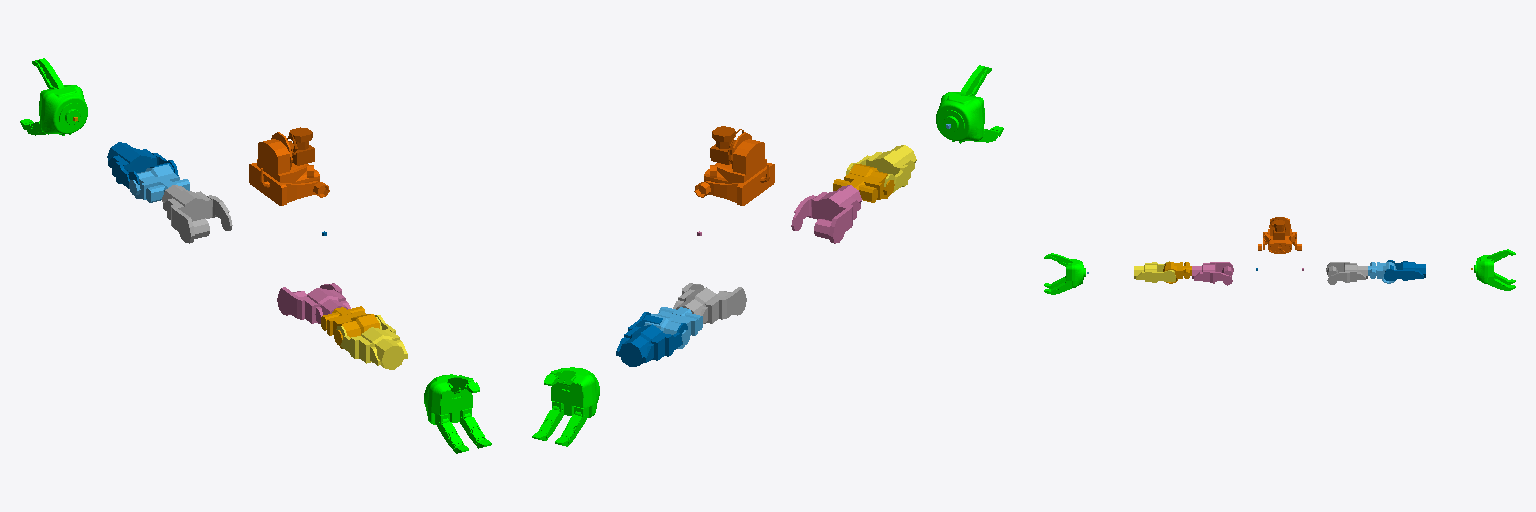
--- What the picture shows (computed from the rendered views, not written in the file) ---
3 views of the same robot in one strip: view 1: azimuth 30°, elevation 25°; view 2: azimuth 150°, elevation 25°; view 3: azimuth 270°, elevation 25° (orthographic).
Model atlas with 84 links and 83 joints (50 revolute, 1 continuous, 32 fixed), rooted at pelvis, posed every joint at zero.
Visible links, largest first — view 1: head, l_scap, r_larm, left_palm, r_scap, l_larm, right_palm, l_uarm, r_uarm, hokuyo_link; view 2: head, r_scap, l_larm, right_palm, l_scap, left_palm, r_larm, r_uarm, l_uarm, hokuyo_link; view 3: head, r_scap, l_scap, l_larm, r_larm.
Link boxes in pixels (x1=…): head: x1=249, y1=132, x2=329, y2=205; l_scap: x1=162, y1=185, x2=232, y2=243; r_larm: x1=336, y1=315, x2=407, y2=369; left_palm: x1=39, y1=85, x2=87, y2=135; r_scap: x1=277, y1=283, x2=350, y2=323; l_larm: x1=107, y1=142, x2=178, y2=188; right_palm: x1=424, y1=374, x2=472, y2=424; l_uarm: x1=129, y1=164, x2=189, y2=202; r_uarm: x1=321, y1=306, x2=379, y2=348; hokuyo_link: x1=287, y1=127, x2=314, y2=165; head: x1=694, y1=132, x2=774, y2=205; r_scap: x1=791, y1=185, x2=861, y2=243; l_larm: x1=616, y1=312, x2=687, y2=366; right_palm: x1=936, y1=92, x2=984, y2=143; l_scap: x1=673, y1=283, x2=746, y2=323; left_palm: x1=551, y1=367, x2=599, y2=417; r_larm: x1=846, y1=145, x2=916, y2=192; r_uarm: x1=833, y1=164, x2=894, y2=202; l_uarm: x1=644, y1=307, x2=702, y2=348; hokuyo_link: x1=710, y1=126, x2=743, y2=164; head: x1=1258, y1=217, x2=1301, y2=253; r_scap: x1=1192, y1=262, x2=1233, y2=285; l_scap: x1=1326, y1=262, x2=1367, y2=284; l_larm: x1=1384, y1=260, x2=1425, y2=280; r_larm: x1=1134, y1=261, x2=1175, y2=282.
Bounding box of the posed robot: 0.2455 × 2.49 × 0.4786 m (x, y, z).
34 mesh visuals loaded from 36 distinct referenced files (6 Collada DAE, 7 OBJ); not drawn: 23 (reference not matched to a file when rendering).

robot.urdf — atlas:
<?xml version="1.0" ?>
<!-- =================================================================================== -->
<!-- |    This document was autogenerated by xacro from xacro/atlas_LR_RR.urdf.xacro   | -->
<!-- |    EDITING THIS FILE BY HAND IS NOT RECOMMENDED                                 | -->
<!-- =================================================================================== -->
<robot name="atlas" xmlns:xacro="http://www.ros.org/wiki/xacro">
  <link name="l_clav">
    <inertial>
      <mass value="3.45"/>
      <origin rpy="0 -0 0" xyz="0 0.048 0.084"/>
      <inertia ixx="0.011" ixy="0" ixz="0" iyy="0.009" iyz="-0.004" izz="0.004"/>
    </inertial>
    <visual>
      <origin rpy="0 -0 0" xyz="0 0 0"/>
      <geometry>
        <mesh filename="package://atlas_v3/meshes/l_clav.dae" scale="1 1 1"/>
      </geometry>
    </visual>
    <collision>
      <origin rpy="0 -0 0" xyz="0 0 0"/>
      <geometry>
        <mesh filename="package://atlas_v3/meshes/l_clav.dae" scale="1 1 1"/>
      </geometry>
    </collision>
  </link>
  <link name="l_farm">
    <inertial>
      <mass value="3.388"/>
      <origin rpy="0 -0 0" xyz="0 -0.065 0"/>
      <inertia ixx="0.00656" ixy="0" ixz="0" iyy="0.00358" iyz="0" izz="0.00656"/>
    </inertial>
    <visual>
      <origin rpy="0 -0 0" xyz="0 0 0"/>
      <geometry>
        <mesh filename="package://atlas_v3/meshes/l_farm.dae" scale="1 1 1"/>
      </geometry>
    </visual>
    <collision>
      <origin rpy="0 -0 0" xyz="0 0 0"/>
      <geometry>
        <mesh filename="package://atlas_v3/meshes/l_farm.dae" scale="1 1 1"/>
      </geometry>
    </collision>
  </link>
  <link name="l_foot">
    <inertial>
      <mass value="2.05"/>
      <origin rpy="0 -0 0" xyz="0.027 0 -0.067"/>
      <inertia ixx="0.002" ixy="0" ixz="0" iyy="0.007" iyz="0" izz="0.008"/>
    </inertial>
    <visual>
      <origin rpy="0 -0 0" xyz="0 0 0"/>
      <geometry>
        <mesh filename="package://atlas_v3/meshes/l_foot.dae" scale="1 1 1"/>
      </geometry>
    </visual>
    <collision>
      <origin rpy="0 -0 0" xyz="0 0 0"/>
      <geometry>
        <mesh filename="package://atlas_v3/meshes/l_foot.dae" scale="1 1 1"/>
      </geometry>
    </collision>
  </link>
  <link name="l_hand">
    <inertial>
      <mass value="2.509"/>
      <origin rpy="0 -0 0" xyz="0 0 0"/>
      <inertia ixx="0.00265" ixy="0" ixz="0" iyy="0.00446" iyz="0" izz="0.00446"/>
    </inertial>
    <visual>
      <origin rpy="0 -0 0" xyz="0 0 0"/>
      <geometry>
        <mesh filename="package://atlas_v3/meshes/l_hand.dae" scale="1 1 1"/>
      </geometry>
    </visual>
    <collision>
      <origin rpy="0 -0 0" xyz="0 0 0"/>
      <geometry>
        <mesh filename="package://atlas_v3/meshes/l_hand.dae" scale="1 1 1"/>
      </geometry>
    </collision>
  </link>
  <link name="l_larm">
    <inertial>
      <mass value="2.509"/>
      <origin rpy="0 -0 0" xyz="0 0 0"/>
      <inertia ixx="0.00265" ixy="0" ixz="0" iyy="0.00446" iyz="0" izz="0.00446"/>
    </inertial>
    <visual>
      <origin rpy="0 -0 0" xyz="0 0 0"/>
      <geometry>
        <mesh filename="package://atlas_v3/meshes/l_elbow_rx.dae" scale="1 1 1"/>
      </geometry>
    </visual>
    <collision>
      <origin rpy="0 -0 0" xyz="0 0 0"/>
      <geometry>
        <mesh filename="package://atlas_v3/meshes/l_elbow_rx.dae" scale="1 1 1"/>
      </geometry>
    </collision>
  </link>
  <link name="l_lglut">
    <inertial>
      <mass value="0.866"/>
      <origin rpy="0 -0 0" xyz="0.0133341 0.0170484 -0.0312052"/>
      <inertia ixx="0.000691326" ixy="-2.24344e-05" ixz="2.50508e-06" iyy="0.00126856" iyz="0.000137862" izz="0.00106487"/>
    </inertial>
    <visual>
      <origin rpy="0 -0 0" xyz="0 0 0"/>
      <geometry>
        <mesh filename="package://atlas_v3/meshes/l_lglut.dae" scale="1 1 1"/>
      </geometry>
    </visual>
    <collision>
      <origin rpy="0 -0 0" xyz="0 0 0"/>
      <geometry>
        <mesh filename="package://atlas_v3/meshes/l_lglut.dae" scale="1 1 1"/>
      </geometry>
    </collision>
  </link>
  <link name="l_lleg">
    <inertial>
      <mass value="5.479"/>
      <origin rpy="0 -0 0" xyz="0.001 0 -0.187"/>
      <inertia ixx="0.077" ixy="0" ixz="-0.003" iyy="0.076" iyz="0" izz="0.01"/>
    </inertial>
    <visual>
      <origin rpy="0 -0 0" xyz="0 0 0"/>
      <geometry>
        <mesh filename="package://atlas_v3/meshes/l_lleg.dae" scale="1 1 1"/>
      </geometry>
    </visual>
    <collision>
      <origin rpy="0 -0 0" xyz="0 0 0"/>
      <geometry>
        <mesh filename="package://atlas_v3/meshes/l_lleg.dae" scale="1 1 1"/>
      </geometry>
    </collision>
  </link>
  <link name="l_scap">
    <inertial>
      <mass value="3.012"/>
      <origin rpy="0 -0 0" xyz="0 0 0"/>
      <inertia ixx="0.00319" ixy="0" ixz="0" iyy="0.00583" iyz="0" izz="0.00583"/>
    </inertial>
    <visual>
      <origin rpy="0 -0 0" xyz="0 0 0"/>
      <geometry>
        <mesh filename="package://atlas_v3/meshes/l_sh_rx.dae" scale="1 1 1"/>
      </geometry>
    </visual>
    <collision>
      <origin rpy="0 -0 0" xyz="0 0 0"/>
      <geometry>
        <mesh filename="package://atlas_v3/meshes/l_sh_rx.dae" scale="1 1 1"/>
      </geometry>
    </collision>
  </link>
  <link name="l_talus">
    <inertial>
      <mass value="0.125"/>
      <origin rpy="0 -0 0" xyz="0 0 0"/>
      <inertia ixx="1.01674e-05" ixy="0" ixz="0" iyy="8.42775e-06" iyz="0" izz="1.30101e-05"/>
    </inertial>
    <visual>
      <origin rpy="0 -0 0" xyz="0 0 0"/>
      <geometry>
        <mesh filename="package://atlas_v3/meshes/l_talus.dae" scale="1 1 1"/>
      </geometry>
    </visual>
    <collision>
      <origin rpy="0 -0 0" xyz="0 0 0"/>
      <geometry>
        <mesh filename="package://atlas_v3/meshes/l_talus.dae" scale="1 1 1"/>
      </geometry>
    </collision>
  </link>
  <link name="l_uarm">
    <inertial>
      <mass value="3.388"/>
      <origin rpy="0 -0 0" xyz="0 -0.065 0"/>
      <inertia ixx="0.00656" ixy="0" ixz="0" iyy="0.00358" iyz="0" izz="0.00656"/>
    </inertial>
    <visual>
      <origin rpy="0 -0 0" xyz="0 0 0"/>
      <geometry>
        <mesh filename="package://atlas_v3/meshes/l_elbow_ry.dae" scale="1 1 1"/>
      </geometry>
    </visual>
    <collision>
      <origin rpy="0 -0 0" xyz="0 0 0"/>
      <geometry>
        <mesh filename="package://atlas_v3/meshes/l_elbow_ry.dae" scale="1 1 1"/>
      </geometry>
    </collision>
  </link>
  <link name="l_uglut">
    <inertial>
      <mass value="0.648"/>
      <origin rpy="0 -0 0" xyz="0.00529262 -0.00344732 0.00313046"/>
      <inertia ixx="0.00074276" ixy="-3.79607e-08" ixz="-2.79549e-05" iyy="0.000688179" iyz="-3.2735e-08" izz="0.00041242"/>
    </inertial>
    <visual>
      <origin rpy="0 -0 0" xyz="0 0 0"/>
      <geometry>
        <mesh filename="package://atlas_v3/meshes/l_uglut.dae" scale="1 1 1"/>
      </geometry>
    </visual>
    <collision>
      <origin rpy="0 -0 0" xyz="0 0 0"/>
      <geometry>
        <mesh filename="package://atlas_v3/meshes/l_uglut.dae" scale="1 1 1"/>
      </geometry>
    </collision>
  </link>
  <link name="l_uleg">
    <inertial>
      <mass value="9.209"/>
      <origin rpy="0 -0 0" xyz="0 0 -0.21"/>
      <inertia ixx="0.09" ixy="0" ixz="0" iyy="0.09" iyz="0" izz="0.02"/>
    </inertial>
    <visual>
      <origin rpy="0 -0 0" xyz="0 0 0"/>
      <geometry>
        <mesh filename="package://atlas_v3/meshes/l_uleg.dae" scale="1 1 1"/>
      </geometry>
    </visual>
    <collision>
      <origin rpy="0 -0 0" xyz="0 0 0"/>
      <geometry>
        <mesh filename="package://atlas_v3/meshes/l_uleg.dae" scale="1 1 1"/>
      </geometry>
    </collision>
  </link>
  <link name="ltorso">
    <inertial>
      <mass value="2.409"/>
      <origin rpy="0 -0 0" xyz="-0.0112984 -3.15366e-06 0.0746835"/>
      <inertia ixx="0.0039092" ixy="-5.04491e-08" ixz="-0.000342157" iyy="0.00341694" iyz="4.87119e-07" izz="0.00174492"/>
    </inertial>
    <visual>
      <origin rpy="0 -0 0" xyz="0 0 0"/>
      <geometry>
        <mesh filename="package://atlas_v3/meshes/ltorso.dae" scale="1 1 1"/>
      </geometry>
    </visual>
    <collision>
      <origin rpy="0 -0 0" xyz="0 0 0"/>
      <geometry>
        <mesh filename="package://atlas_v3/meshes/ltorso.dae" scale="1 1 1"/>
      </geometry>
    </collision>
  </link>
  <link name="mtorso">
    <inertial>
      <mass value="0.69"/>
      <origin rpy="0 -0 0" xyz="-0.00816266 -0.0131245 0.0305974"/>
      <inertia ixx="0.000454181" ixy="-6.10764e-05" ixz="3.94009e-05" iyy="0.000483282" iyz="5.27463e-05" izz="0.000444215"/>
    </inertial>
    <visual>
      <origin rpy="0 -0 0" xyz="0 0 0"/>
      <geometry>
        <mesh filename="package://atlas_v3/meshes/mtorso.dae" scale="1 1 1"/>
      </geometry>
    </visual>
    <collision>
      <origin rpy="0 -0 0" xyz="0 0 0"/>
      <geometry>
        <mesh filename="package://atlas_v3/meshes/mtorso.dae" scale="1 1 1"/>
      </geometry>
    </collision>
  </link>
  <link name="pelvis">
    <inertial>
      <mass value="17.882"/>
      <origin rpy="0 -0 0" xyz="0.0111 0 0.0271"/>
      <inertia ixx="0.1244" ixy="0.0008" ixz="-0.0007" iyy="0.0958" iyz="-0.0005" izz="0.1167"/>
    </inertial>
    <visual>
      <origin rpy="0 -0 0" xyz="0 0 0"/>
      <geometry>
        <mesh filename="package://atlas_v3/meshes/pelvis.dae" scale="1 1 1"/>
      </geometry>
    </visual>
    <collision>
      <origin rpy="0 -0 0" xyz="0 0 0"/>
      <geometry>
        <mesh filename="package://atlas_v3/meshes/pelvis.dae" scale="1 1 1"/>
      </geometry>
    </collision>
  </link>
  <link name="r_clav">
    <inertial>
      <mass value="3.45"/>
      <origin rpy="0 -0 0" xyz="0 -0.048 0.084"/>
      <inertia ixx="0.011" ixy="0" ixz="0" iyy="0.009" iyz="0.004" izz="0.004"/>
    </inertial>
    <visual>
      <origin rpy="0 -0 0" xyz="0 0 0"/>
      <geometry>
        <mesh filename="package://atlas_v3/meshes/r_clav.dae" scale="1 1 1"/>
      </geometry>
    </visual>
    <collision>
      <origin rpy="0 -0 0" xyz="0 0 0"/>
      <geometry>
        <mesh filename="package://atlas_v3/meshes/r_clav.dae" scale="1 1 1"/>
      </geometry>
    </collision>
  </link>
  <link name="r_farm">
    <inertial>
      <mass value="3.388"/>
      <origin rpy="0 -0 0" xyz="0 0.065 0"/>
      <inertia ixx="0.00656" ixy="0" ixz="0" iyy="0.00358" iyz="0" izz="0.00656"/>
    </inertial>
    <visual>
      <origin rpy="0 -0 0" xyz="0 0 0"/>
      <geometry>
        <mesh filename="package://atlas_v3/meshes/r_farm.dae" scale="1 1 1"/>
      </geometry>
    </visual>
    <collision>
      <origin rpy="0 -0 0" xyz="0 0 0"/>
      <geometry>
        <mesh filename="package://atlas_v3/meshes/r_farm.dae" scale="1 1 1"/>
      </geometry>
    </collision>
  </link>
  <link name="r_foot">
    <inertial>
      <mass value="2.05"/>
      <origin rpy="0 -0 0" xyz="0.027 0 -0.067"/>
      <inertia ixx="0.002" ixy="0" ixz="0" iyy="0.007" iyz="0" izz="0.008"/>
    </inertial>
    <visual>
      <origin rpy="0 -0 0" xyz="0 0 0"/>
      <geometry>
        <mesh filename="package://atlas_v3/meshes/r_foot.dae" scale="1 1 1"/>
      </geometry>
    </visual>
    <collision>
      <origin rpy="0 -0 0" xyz="0 0 0"/>
      <geometry>
        <mesh filename="package://atlas_v3/meshes/r_foot.dae" scale="1 1 1"/>
      </geometry>
    </collision>
  </link>
  <link name="r_hand">
    <inertial>
      <mass value="2.509"/>
      <origin rpy="0 -0 0" xyz="0 0 0"/>
      <inertia ixx="0.00265" ixy="0" ixz="0" iyy="0.00446" iyz="0" izz="0.00446"/>
    </inertial>
    <visual>
      <origin rpy="0 3.14159 0" xyz="0 0 0"/>
      <geometry>
        <mesh filename="package://atlas_v3/meshes/r_hand.dae" scale="1 1 1"/>
      </geometry>
    </visual>
    <collision>
      <origin rpy="0 -0 0" xyz="0 0 0"/>
      <geometry>
        <mesh filename="package://atlas_v3/meshes/r_hand.dae" scale="1 1 1"/>
      </geometry>
    </collision>
  </link>
  <link name="r_larm">
    <inertial>
      <mass value="2.509"/>
      <origin rpy="0 -0 0" xyz="0 0 0"/>
      <inertia ixx="0.00265" ixy="0" ixz="0" iyy="0.00446" iyz="0" izz="0.00446"/>
    </inertial>
    <visual>
      <origin rpy="0 -0 0" xyz="0 0 0"/>
      <geometry>
        <mesh filename="package://atlas_v3/meshes/r_elbow_rx.dae" scale="1 1 1"/>
      </geometry>
    </visual>
    <collision>
      <origin rpy="0 -0 0" xyz="0 0 0"/>
      <geometry>
        <mesh filename="package://atlas_v3/meshes/r_elbow_rx.dae" scale="1 1 1"/>
      </geometry>
    </collision>
  </link>
  <link name="r_lglut">
    <inertial>
      <mass value="0.866"/>
      <origin rpy="0 -0 0" xyz="0.0133341 -0.0170484 -0.0312052"/>
      <inertia ixx="0.000691326" ixy="2.24344e-05" ixz="2.50508e-06" iyy="0.00126856" iyz="-0.000137862" izz="0.00106487"/>
    </inertial>
    <visual>
      <origin rpy="0 -0 0" xyz="0 0 0"/>
      <geometry>
        <mesh filename="package://atlas_v3/meshes/r_lglut.dae" scale="1 1 1"/>
      </geometry>
    </visual>
    <collision>
      <origin rpy="0 -0 0" xyz="0 0 0"/>
      <geometry>
        <mesh filename="package://atlas_v3/meshes/r_lglut.dae" scale="1 1 1"/>
      </geometry>
    </collision>
  </link>
  <link name="r_lleg">
    <inertial>
      <mass value="5.479"/>
      <origin rpy="0 -0 0" xyz="0.001 0 -0.187"/>
      <inertia ixx="0.077" ixy="-0" ixz="-0.003" iyy="0.076" iyz="-0" izz="0.01"/>
    </inertial>
    <visual>
      <origin rpy="0 -0 0" xyz="0 0 0"/>
      <geometry>
        <mesh filename="package://atlas_v3/meshes/r_lleg.dae" scale="1 1 1"/>
      </geometry>
    </visual>
    <collision>
      <origin rpy="0 -0 0" xyz="0 0 0"/>
      <geometry>
        <mesh filename="package://atlas_v3/meshes/r_lleg.dae" scale="1 1 1"/>
      </geometry>
    </collision>
  </link>
  <link name="r_scap">
    <inertial>
      <mass value="3.012"/>
      <origin rpy="0 -0 0" xyz="0 0 0"/>
      <inertia ixx="0.00319" ixy="0" ixz="0" iyy="0.00583" iyz="0" izz="0.00583"/>
    </inertial>
    <visual>
      <origin rpy="0 -0 0" xyz="0 0 0"/>
      <geometry>
        <mesh filename="package://atlas_v3/meshes/r_sh_rx.dae" scale="1 1 1"/>
      </geometry>
    </visual>
    <collision>
      <origin rpy="0 -0 0" xyz="0 0 0"/>
      <geometry>
        <mesh filename="package://atlas_v3/meshes/r_sh_rx.dae" scale="1 1 1"/>
      </geometry>
    </collision>
  </link>
  <link name="r_talus">
    <inertial>
      <mass value="0.125"/>
      <origin rpy="0 -0 0" xyz="0 0 0"/>
      <inertia ixx="1.01674e-05" ixy="0" ixz="0" iyy="8.42775e-06" iyz="0" izz="1.30101e-05"/>
    </inertial>
    <visual>
      <origin rpy="0 -0 0" xyz="0 0 0"/>
      <geometry>
        <mesh filename="package://atlas_v3/meshes/r_talus.dae" scale="1 1 1"/>
      </geometry>
    </visual>
    <collision>
      <origin rpy="0 -0 0" xyz="0 0 0"/>
      <geometry>
        <mesh filename="package://atlas_v3/meshes/r_talus.dae" scale="1 1 1"/>
      </geometry>
    </collision>
  </link>
  <link name="r_uarm">
    <inertial>
      <mass value="3.388"/>
      <origin rpy="0 -0 0" xyz="0 0.065 0"/>
      <inertia ixx="0.00656" ixy="0" ixz="0" iyy="0.00358" iyz="0" izz="0.00656"/>
    </inertial>
    <visual>
      <origin rpy="0 -0 0" xyz="0 0 0"/>
      <geometry>
        <mesh filename="package://atlas_v3/meshes/r_elbow_ry.dae" scale="1 1 1"/>
      </geometry>
    </visual>
    <collision>
      <origin rpy="0 -0 0" xyz="0 0 0"/>
      <geometry>
        <mesh filename="package://atlas_v3/meshes/r_elbow_ry.dae" scale="1 1 1"/>
      </geometry>
    </collision>
  </link>
  <link name="r_uglut">
    <inertial>
      <mass value="0.648"/>
      <origin rpy="0 -0 0" xyz="0.00529262 0.00344732 0.00313046"/>
      <inertia ixx="0.00074276" ixy="3.79607e-08" ixz="-2.79549e-05" iyy="0.000688179" iyz="3.2735e-08" izz="0.00041242"/>
    </inertial>
    <visual>
      <origin rpy="0 -0 0" xyz="0 0 0"/>
      <geometry>
        <mesh filename="package://atlas_v3/meshes/r_uglut.dae" scale="1 1 1"/>
      </geometry>
    </visual>
    <collision>
      <origin rpy="0 -0 0" xyz="0 0 0"/>
      <geometry>
        <mesh filename="package://atlas_v3/meshes/r_uglut.dae" scale="1 1 1"/>
      </geometry>
    </collision>
  </link>
  <link name="r_uleg">
    <inertial>
      <mass value="9.209"/>
      <origin rpy="0 -0 0" xyz="0 0 -0.21"/>
      <inertia ixx="0.09" ixy="0" ixz="0" iyy="0.09" iyz="0" izz="0.02"/>
    </inertial>
    <visual>
      <origin rpy="0 -0 0" xyz="0 0 0"/>
      <geometry>
        <mesh filename="package://atlas_v3/meshes/r_uleg.dae" scale="1 1 1"/>
      </geometry>
    </visual>
    <collision>
      <origin rpy="0 -0 0" xyz="0 0 0"/>
      <geometry>
        <mesh filename="package://atlas_v3/meshes/r_uleg.dae" scale="1 1 1"/>
      </geometry>
    </collision>
  </link>
  <link name="utorso">
    <inertial>
      <mass value="52.007"/>
      <origin rpy="0 -0 0" xyz="-0.0923 0 0.3"/>
      <inertia ixx="1.466" ixy="0.00362" ixz="0.336" iyy="1.51" iyz="0.001" izz="1.3"/>
    </inertial>
    <visual>
      <origin rpy="0 -0 0" xyz="0 0 0"/>
      <geometry>
        <mesh filename="package://atlas_v3/meshes/utorso.dae" scale="1 1 1"/>
      </geometry>
    </visual>
    <collision>
      <origin rpy="0 -0 0" xyz="0 0 0"/>
      <geometry>
        <mesh filename="package://atlas_v3/meshes/utorso.dae" scale="1 1 1"/>
      </geometry>
    </collision>
    <visual>
      <origin rpy="0 -0 0" xyz="0 0 0"/>
      <geometry>
        <mesh filename="package://atlas_v3/meshes/utorso_pack.dae" scale="1 1 1"/>
      </geometry>
    </visual>
    <collision>
      <origin rpy="0 -0 0" xyz="0 0 0"/>
      <geometry>
        <mesh filename="package://atlas_v3/meshes/utorso_pack.dae" scale="1 1 1"/>
      </geometry>
    </collision>
  </link>
  <joint name="back_bkx" type="revolute">
    <origin rpy="0 -0 0" xyz="0 0 0.05"/>
    <axis xyz="1 0 0"/>
    <parent link="mtorso"/>
    <child link="utorso"/>
    <dynamics damping="0.1" friction="0"/>
    <limit effort="200" lower="-0.698132" upper="0.698132" velocity="12"/>
    <safety_controller k_position="100" k_velocity="100" soft_lower_limit="-10.6981" soft_upper_limit="10.6981"/>
  </joint>
  <joint name="back_bky" type="revolute">
    <origin rpy="0 -0 0" xyz="0 0 0.16197"/>
    <axis xyz="0 1 0"/>
    <parent link="ltorso"/>
    <child link="mtorso"/>
    <dynamics damping="0.1" friction="0"/>
    <limit effort="206.843" lower="-0.262" upper="0.524" velocity="12"/>
    <safety_controller k_position="100" k_velocity="100" soft_lower_limit="-10.6107" soft_upper_limit="10.4384"/>
  </joint>
  <joint name="back_bkz" type="revolute">
    <origin rpy="0 -0 0" xyz="-0.0125 0 0"/>
    <axis xyz="0 0 1"/>
    <parent link="pelvis"/>
    <child link="ltorso"/>
    <dynamics damping="0.1" friction="0"/>
    <limit effort="114" lower="-0.663225" upper="0.663225" velocity="12"/>
    <safety_controller k_position="100" k_velocity="100" soft_lower_limit="-10.6632" soft_upper_limit="10.6632"/>
  </joint>
  <joint name="l_arm_elx" type="revolute">
    <origin rpy="0 -0 0" xyz="0 0.119 0.00921"/>
    <axis xyz="1 0 0"/>
    <parent link="l_uarm"/>
    <child link="l_larm"/>
    <dynamics damping="0.1" friction="0"/>
    <limit effort="55" lower="0" upper="2.35619" velocity="12"/>
    <safety_controller k_position="100" k_velocity="100" soft_lower_limit="-10" soft_upper_limit="12.3562"/>
  </joint>
  <joint name="l_arm_ely" type="revolute">
    <origin rpy="0 -0 0" xyz="0 0.187 0.016"/>
    <axis xyz="0 1 0"/>
    <parent link="l_scap"/>
    <child link="l_uarm"/>
    <dynamics damping="0.1" friction="0"/>
    <limit effort="55" lower="0" upper="3.14159" velocity="12"/>
    <safety_controller k_position="100" k_velocity="100" soft_lower_limit="-10" soft_upper_limit="13.1416"/>
  </joint>
  <joint name="l_arm_shx" type="revolute">
    <origin rpy="0 -0 0" xyz="0 0.14035 0.19609"/>
    <axis xyz="1 0 0"/>
    <parent link="l_clav"/>
    <child link="l_scap"/>
    <dynamics damping="0.1" friction="0"/>
    <limit effort="107" lower="-1.5708" upper="1.5708" velocity="12"/>
    <safety_controller k_position="100" k_velocity="100" soft_lower_limit="-11.5708" soft_upper_limit="11.5708"/>
  </joint>
  <joint name="l_arm_usy" type="revolute">
    <origin rpy="0 -0 0" xyz="0.06441 0.13866 0.10718"/>
    <axis xyz="0 0.5 0.866025"/>
    <parent link="utorso"/>
    <child link="l_clav"/>
    <dynamics damping="0.1" friction="0"/>
    <limit effort="75" lower="-1.5708" upper="0.785398" velocity="12"/>
    <safety_controller k_position="100" k_velocity="100" soft_lower_limit="-11.5708" soft_upper_limit="10.7854"/>
  </joint>
  <joint name="l_arm_mwx" type="revolute">
    <origin rpy="0 -0 0" xyz="0 0.119 0.00921"/>
    <axis xyz="1 0 0"/>
    <parent link="l_farm"/>
    <child link="l_hand"/>
    <dynamics damping="0.1" friction="0"/>
    <limit effort="55" lower="-1.1781" upper="1.1781" velocity="12"/>
    <safety_controller k_position="100" k_velocity="100" soft_lower_limit="-11.1781" soft_upper_limit="11.1781"/>
  </joint>
  <joint name="l_arm_uwy" type="revolute">
    <origin rpy="0 -0 0" xyz="0 0.187 -0.00921"/>
    <axis xyz="0 1 0"/>
    <parent link="l_larm"/>
    <child link="l_farm"/>
    <dynamics damping="0.1" friction="0"/>
    <limit effort="55" lower="0" upper="3.14159" velocity="12"/>
    <safety_controller k_position="100" k_velocity="100" soft_lower_limit="-10" soft_upper_limit="13.1416"/>
  </joint>
  <joint name="l_leg_akx" type="revolute">
    <origin rpy="0 -0 0" xyz="0 0 0"/>
    <axis xyz="1 0 0"/>
    <parent link="l_talus"/>
    <child link="l_foot"/>
    <dynamics damping="0.1" friction="0"/>
    <limit effort="90" lower="-0.8" upper="0.8" velocity="12"/>
    <safety_controller k_position="100" k_velocity="100" soft_lower_limit="-10.8" soft_upper_limit="10.8"/>
  </joint>
  <joint name="l_leg_aky" type="revolute">
    <origin rpy="0 -0 0" xyz="0 0 -0.422"/>
    <axis xyz="0 1 0"/>
    <parent link="l_lleg"/>
    <child link="l_talus"/>
    <dynamics damping="0.1" friction="0"/>
    <limit effort="700" lower="-1" upper="0.7" velocity="12"/>
    <safety_controller k_position="100" k_velocity="100" soft_lower_limit="-11" soft_upper_limit="10.7"/>
  </joint>
  <joint name="l_leg_hpx" type="revolute">
    <origin rpy="0 -0 0" xyz="0 0 0"/>
    <axis xyz="1 0 0"/>
    <parent link="l_uglut"/>
    <child link="l_lglut"/>
    <dynamics damping="0.1" friction="0"/>
    <limit effort="180" lower="-0.523599" upper="0.523599" velocity="12"/>
    <safety_controller k_position="100" k_velocity="100" soft_lower_limit="-10.5236" soft_upper_limit="10.5236"/>
  </joint>
  <joint name="l_leg_hpy" type="revolute">
    <origin rpy="0 -0 0" xyz="0.05 0 -0.05"/>
    <axis xyz="0 1 0"/>
    <parent link="l_lglut"/>
    <child link="l_uleg"/>
    <dynamics damping="0.1" friction="0"/>
    <limit effort="260" lower="-1.72072" upper="0.524821" velocity="12"/>
    <safety_controller k_position="100" k_velocity="100" soft_lower_limit="-11.7207" soft_upper_limit="10.5248"/>
  </joint>
  <joint name="l_leg_hpz" type="revolute">
    <origin rpy="0 -0 0" xyz="0 0.089 0"/>
    <axis xyz="0 0 1"/>
    <parent link="pelvis"/>
    <child link="l_uglut"/>
    <dynamics damping="0.1" friction="0"/>
    <limit effort="110" lower="-0.174533" upper="1.22173" velocity="12"/>
    <safety_controller k_position="100" k_velocity="100" soft_lower_limit="-10.1745" soft_upper_limit="11.2217"/>
  </joint>
  <joint name="l_leg_kny" type="revolute">
    <origin rpy="0 -0 0" xyz="-0.05 0 -0.374"/>
    <axis xyz="0 1 0"/>
    <parent link="l_uleg"/>
    <child link="l_lleg"/>
    <dynamics damping="0.1" friction="0"/>
    <limit effort="220" lower="0" upper="2.38569" velocity="12"/>
    <safety_controller k_position="100" k_velocity="100" soft_lower_limit="-10" soft_upper_limit="12.3857"/>
  </joint>
  <joint name="neck_ay" type="revolute">
    <origin rpy="0 -0 0" xyz="0.21672 0 0.53796"/>
    <axis xyz="0 1 0"/>
    <parent link="utorso"/>
    <child link="head"/>
    <dynamics damping="0.1" friction="0"/>
    <limit effort="5" lower="-0.602139" upper="1.14494" velocity="12"/>
    <safety_controller k_position="100" k_velocity="100" soft_lower_limit="-10.6021" soft_upper_limit="11.1449"/>
  </joint>
  <joint name="r_arm_elx" type="revolute">
    <origin rpy="0 -0 0" xyz="0 -0.119 0.00921"/>
    <axis xyz="1 0 0"/>
    <parent link="r_uarm"/>
    <child link="r_larm"/>
    <dynamics damping="0.1" friction="0"/>
    <limit effort="55" lower="-2.35619" upper="0" velocity="12"/>
    <safety_controller k_position="100" k_velocity="100" soft_lower_limit="-12.3562" soft_upper_limit="10"/>
  </joint>
  <joint name="r_arm_ely" type="revolute">
    <origin rpy="0 -0 0" xyz="0 -0.187 0.016"/>
    <axis xyz="0 1 0"/>
    <parent link="r_scap"/>
    <child link="r_uarm"/>
    <dynamics damping="0.1" friction="0"/>
    <limit effort="55" lower="0" upper="3.14159" velocity="12"/>
    <safety_controller k_position="100" k_velocity="100" soft_lower_limit="-10" soft_upper_limit="13.1416"/>
  </joint>
  <joint name="r_arm_shx" type="revolute">
    <origin rpy="0 -0 0" xyz="0 -0.14035 0.19609"/>
    <axis xyz="1 0 0"/>
    <parent link="r_clav"/>
    <child link="r_scap"/>
    <dynamics damping="0.1" friction="0"/>
    <limit effort="107" lower="-1.5708" upper="1.5708" velocity="12"/>
    <safety_controller k_position="100" k_velocity="100" soft_lower_limit="-11.5708" soft_upper_limit="11.5708"/>
  </joint>
  <joint name="r_arm_usy" type="revolute">
    <origin rpy="0 -0 0" xyz="0.06441 -0.13866 0.10718"/>
    <axis xyz="0 0.5 -0.866025"/>
    <parent link="utorso"/>
    <child link="r_clav"/>
    <dynamics damping="0.1" friction="0"/>
    <limit effort="75" lower="-1.5708" upper="0.785398" velocity="12"/>
    <safety_controller k_position="100" k_velocity="100" soft_lower_limit="-11.5708" soft_upper_limit="10.7854"/>
  </joint>
  <joint name="r_arm_mwx" type="revolute">
    <origin rpy="0 -0 0" xyz="0 -0.119 0.00921"/>
    <axis xyz="1 0 0"/>
    <parent link="r_farm"/>
    <child link="r_hand"/>
    <dynamics damping="0.1" friction="0"/>
    <limit effort="55" lower="-1.1781" upper="1.1781" velocity="12"/>
    <safety_controller k_position="100" k_velocity="100" soft_lower_limit="-11.1781" soft_upper_limit="11.1781"/>
  </joint>
  <joint name="r_arm_uwy" type="revolute">
    <origin rpy="0 -0 0" xyz="0 -0.187 -0.00921"/>
    <axis xyz="0 1 0"/>
    <parent link="r_larm"/>
    <child link="r_farm"/>
    <dynamics damping="0.1" friction="0"/>
    <limit effort="55" lower="0" upper="3.14159" velocity="12"/>
    <safety_controller k_position="100" k_velocity="100" soft_lower_limit="-10" soft_upper_limit="13.1416"/>
  </joint>
  <joint name="r_leg_akx" type="revolute">
    <origin rpy="0 -0 0" xyz="0 0 0"/>
    <axis xyz="1 0 0"/>
    <parent link="r_talus"/>
    <child link="r_foot"/>
    <dynamics damping="0.1" friction="0"/>
    <limit effort="90" lower="-0.8" upper="0.8" velocity="12"/>
    <safety_controller k_position="100" k_velocity="100" soft_lower_limit="-10.8" soft_upper_limit="10.8"/>
  </joint>
  <joint name="r_leg_aky" type="revolute">
    <origin rpy="0 -0 0" xyz="0 0 -0.422"/>
    <axis xyz="0 1 0"/>
    <parent link="r_lleg"/>
    <child link="r_talus"/>
    <dynamics damping="0.1" friction="0"/>
    <limit effort="700" lower="-1" upper="0.7" velocity="12"/>
    <safety_controller k_position="100" k_velocity="100" soft_lower_limit="-11" soft_upper_limit="10.7"/>
  </joint>
  <joint name="r_leg_hpx" type="revolute">
    <origin rpy="0 -0 0" xyz="0 0 0"/>
    <axis xyz="1 0 0"/>
    <parent link="r_uglut"/>
    <child link="r_lglut"/>
    <dynamics damping="0.1" friction="0"/>
    <limit effort="180" lower="-0.523599" upper="0.523599" velocity="12"/>
    <safety_controller k_position="100" k_velocity="100" soft_lower_limit="-10.5236" soft_upper_limit="10.5236"/>
  </joint>
  <joint name="r_leg_hpy" type="revolute">
    <origin rpy="0 -0 0" xyz="0.05 0 -0.05"/>
    <axis xyz="0 1 0"/>
    <parent link="r_lglut"/>
    <child link="r_uleg"/>
    <dynamics damping="0.1" friction="0"/>
    <limit effort="260" lower="-1.72072" upper="0.524821" velocity="12"/>
    <safety_controller k_position="100" k_velocity="100" soft_lower_limit="-11.7207" soft_upper_limit="10.5248"/>
  </joint>
  <joint name="r_leg_hpz" type="revolute">
    <origin rpy="0 -0 0" xyz="0 -0.089 0"/>
    <axis xyz="0 0 1"/>
    <parent link="pelvis"/>
    <child link="r_uglut"/>
    <dynamics damping="0.1" friction="0"/>
    <limit effort="110" lower="-1.22173" upper="0.174533" velocity="12"/>
    <safety_controller k_position="100" k_velocity="100" soft_lower_limit="-11.2217" soft_upper_limit="10.1745"/>
  </joint>
  <joint name="r_leg_kny" type="revolute">
    <origin rpy="0 -0 0" xyz="-0.05 0 -0.374"/>
    <axis xyz="0 1 0"/>
    <parent link="r_uleg"/>
    <child link="r_lleg"/>
    <dynamics damping="0.1" friction="0"/>
    <limit effort="220" lower="0" upper="2.38569" velocity="12"/>
    <safety_controller k_position="100" k_velocity="100" soft_lower_limit="-10" soft_upper_limit="12.3857"/>
  </joint>
  <link name="r_situational_awareness_camera_link">
    <inertial>
      <mass value="0.1"/>
      <origin xyz="0 0 0"/>
      <inertia ixx="0.00001" ixy="0" ixz="0" iyy="0.00001" iyz="0" izz="0.00001"/>
    </inertial>
    <visual>
      <origin rpy="0 0 0" xyz="0 0 0"/>
      <geometry>
        <box size="0.01 0.01 0.01"/>
      </geometry>
    </visual>
  </link>
  <joint name="r_situational_awareness_camera_joint" type="fixed">
    <parent link="utorso"/>
    <child link="r_situational_awareness_camera_link"/>
    <!-- if camera points x-forward, bottom towards front of robot, 15 degree yaw forwards from
           lateral (+y) view -->
    <origin rpy="1.57079633 0 -1.30899694" xyz="0.216409 -0.121799 0.406759"/>
  </joint>
  <joint name="r_situational_awareness_camera_optical_frame_joint" type="fixed">
    <origin rpy="-1.5708 0.0 -1.5708" xyz="0 0 0"/>
    <parent link="r_situational_awareness_camera_link"/>
    <child link="r_situational_awareness_camera_optical_frame"/>
  </joint>
  <link name="r_situational_awareness_camera_optical_frame"/>
  <frame link="l_foot" name="l_foot_sole" rpy="0 0 0" xyz="0.0426  0.0017 -0.07645"/>
  <frame link="r_foot" name="r_foot_sole" rpy="0 0 0" xyz="0.0426 -0.0017 -0.07645"/>
  <frame link="l_foot" name="l_foot_toe" rpy="0 0 0" xyz="0.1728 0.0017 -0.07645"/>
  <frame link="r_foot" name="r_foot_toe" rpy="0 0 0" xyz="0.1728 -0.0017 -0.07645"/>
  <link name="l_situational_awareness_camera_link">
    <inertial>
      <mass value="0.1"/>
      <origin xyz="0 0 0"/>
      <inertia ixx="0.00001" ixy="0" ixz="0" iyy="0.00001" iyz="0" izz="0.00001"/>
    </inertial>
    <visual>
      <origin rpy="0 0 0" xyz="0 0 0"/>
      <geometry>
        <box size="0.01 0.01 0.01"/>
      </geometry>
    </visual>
  </link>
  <joint name="l_situational_awareness_camera_joint" type="fixed">
    <parent link="utorso"/>
    <child link="l_situational_awareness_camera_link"/>
    <!-- if camera points x-forward, bottom towards front of robot, 15 degree yaw forwards from
           lateral (+y) view -->
    <origin rpy="-1.57079633 0 1.30899694" xyz="0.216409 0.121799 0.406759"/>
  </joint>
  <joint name="l_situational_awareness_camera_optical_frame_joint" type="fixed">
    <origin rpy="-1.5708 0.0 -1.5708" xyz="0 0 0"/>
    <parent link="l_situational_awareness_camera_link"/>
    <child link="l_situational_awareness_camera_optical_frame"/>
  </joint>
  <link name="l_situational_awareness_camera_optical_frame"/>
  <transmission name="head_hokuyo_trans" type="pr2_mechanism_model/SimpleTransmission">
    <joint name="hokuyo_joint"/>
    <actuator name="hokuyo_motor"/>
    <mechanicalReduction>1</mechanicalReduction>
  </transmission>
  <transmission name="back_bkz_trans" type="pr2_mechanism_model/SimpleTransmission">
    <joint name="back_bkz"/>
    <actuator name="back_bkz_motor"/>
    <mechanicalReduction>1</mechanicalReduction>
  </transmission>
  <transmission name="back_bky_trans" type="pr2_mechanism_model/SimpleTransmission">
    <actuator name="back_bky_motor"/>
    <joint name="back_bky"/>
    <mechanicalReduction>1</mechanicalReduction>
  </transmission>
  <transmission name="back_bkx_trans" type="pr2_mechanism_model/SimpleTransmission">
    <actuator name="back_bkx_motor"/>
    <joint name="back_bkx"/>
    <mechanicalReduction>1</mechanicalReduction>
  </transmission>
  <transmission name="l_arm_elx_trans" type="pr2_mechanism_model/SimpleTransmission">
    <actuator name="l_arm_elx_motor"/>
    <joint name="l_arm_elx"/>
    <mechanicalReduction>1</mechanicalReduction>
  </transmission>
  <transmission name="l_arm_ely_trans" type="pr2_mechanism_model/SimpleTransmission">
    <actuator name="l_arm_ely_motor"/>
    <joint name="l_arm_ely"/>
    <mechanicalReduction>1</mechanicalReduction>
  </transmission>
  <transmission name="l_arm_mwx_trans" type="pr2_mechanism_model/SimpleTransmission">
    <actuator name="l_arm_mwx_motor"/>
    <joint name="l_arm_mwx"/>
    <mechanicalReduction>1</mechanicalReduction>
  </transmission>
  <transmission name="l_arm_shx_trans" type="pr2_mechanism_model/SimpleTransmission">
    <actuator name="l_arm_shx_motor"/>
    <joint name="l_arm_shx"/>
    <mechanicalReduction>1</mechanicalReduction>
  </transmission>
  <transmission name="l_arm_usy_trans" type="pr2_mechanism_model/SimpleTransmission">
    <actuator name="l_arm_usy_motor"/>
    <joint name="l_arm_usy"/>
    <mechanicalReduction>1</mechanicalReduction>
  </transmission>
  <transmission name="l_arm_uwy_trans" type="pr2_mechanism_model/SimpleTransmission">
    <actuator name="l_arm_uwy_motor"/>
    <joint name="l_arm_uwy"/>
    <mechanicalReduction>1</mechanicalReduction>
  </transmission>
  <transmission name="l_leg_kny_trans" type="pr2_mechanism_model/SimpleTransmission">
    <actuator name="l_leg_kny_motor"/>
    <joint name="l_leg_kny"/>
    <mechanicalReduction>1</mechanicalReduction>
  </transmission>
  <transmission name="l_leg_akx_trans" type="pr2_mechanism_model/SimpleTransmission">
    <actuator name="l_leg_akx_motor"/>
    <joint name="l_leg_akx"/>
    <mechanicalReduction>1</mechanicalReduction>
  </transmission>
  <transmission name="l_leg_hpy_trans" type="pr2_mechanism_model/SimpleTransmission">
    <actuator name="l_leg_hpy_motor"/>
    <joint name="l_leg_hpy"/>
    <mechanicalReduction>1</mechanicalReduction>
  </transmission>
  <transmission name="l_leg_hpx_trans" type="pr2_mechanism_model/SimpleTransmission">
    <actuator name="l_leg_hpx_motor"/>
    <joint name="l_leg_hpx"/>
    <mechanicalReduction>1</mechanicalReduction>
  </transmission>
  <transmission name="l_leg_aky_trans" type="pr2_mechanism_model/SimpleTransmission">
    <actuator name="l_leg_aky_motor"/>
    <joint name="l_leg_aky"/>
    <mechanicalReduction>1</mechanicalReduction>
  </transmission>
  <transmission name="l_leg_hpz_trans" type="pr2_mechanism_model/SimpleTransmission">
    <actuator name="l_leg_hpz_motor"/>
    <joint name="l_leg_hpz"/>
    <mechanicalReduction>1</mechanicalReduction>
  </transmission>
  <transmission name="neck_ay_trans" type="pr2_mechanism_model/SimpleTransmission">
    <actuator name="neck_ay_motor"/>
    <joint name="neck_ay"/>
    <mechanicalReduction>1</mechanicalReduction>
  </transmission>
  <transmission name="r_arm_elx_trans" type="pr2_mechanism_model/SimpleTransmission">
    <actuator name="r_arm_elx_motor"/>
    <joint name="r_arm_elx"/>
    <mechanicalReduction>1</mechanicalReduction>
  </transmission>
  <transmission name="r_arm_ely_trans" type="pr2_mechanism_model/SimpleTransmission">
    <actuator name="r_arm_ely_motor"/>
    <joint name="r_arm_ely"/>
    <mechanicalReduction>1</mechanicalReduction>
  </transmission>
  <transmission name="r_arm_mwx_trans" type="pr2_mechanism_model/SimpleTransmission">
    <actuator name="r_arm_mwx_motor"/>
    <joint name="r_arm_mwx"/>
    <mechanicalReduction>1</mechanicalReduction>
  </transmission>
  <transmission name="r_arm_shx_trans" type="pr2_mechanism_model/SimpleTransmission">
    <actuator name="r_arm_shx_motor"/>
    <joint name="r_arm_shx"/>
    <mechanicalReduction>1</mechanicalReduction>
  </transmission>
  <transmission name="r_arm_usy_trans" type="pr2_mechanism_model/SimpleTransmission">
    <actuator name="r_arm_usy_motor"/>
    <joint name="r_arm_usy"/>
    <mechanicalReduction>1</mechanicalReduction>
  </transmission>
  <transmission name="r_arm_uwy_trans" type="pr2_mechanism_model/SimpleTransmission">
    <actuator name="r_arm_uwy_motor"/>
    <joint name="r_arm_uwy"/>
    <mechanicalReduction>1</mechanicalReduction>
  </transmission>
  <transmission name="r_leg_kny_trans" type="pr2_mechanism_model/SimpleTransmission">
    <actuator name="r_leg_kny_motor"/>
    <joint name="r_leg_kny"/>
    <mechanicalReduction>1</mechanicalReduction>
  </transmission>
  <transmission name="r_leg_akx_trans" type="pr2_mechanism_model/SimpleTransmission">
    <actuator name="r_leg_akx_motor"/>
    <joint name="r_leg_akx"/>
    <mechanicalReduction>1</mechanicalReduction>
  </transmission>
  <transmission name="r_leg_hpy_trans" type="pr2_mechanism_model/SimpleTransmission">
    <actuator name="r_leg_hpy_motor"/>
    <joint name="r_leg_hpy"/>
    <mechanicalReduction>1</mechanicalReduction>
  </transmission>
  <transmission name="r_leg_hpx_trans" type="pr2_mechanism_model/SimpleTransmission">
    <actuator name="r_leg_hpx_motor"/>
    <joint name="r_leg_hpx"/>
    <mechanicalReduction>1</mechanicalReduction>
  </transmission>
  <transmission name="r_leg_aky_trans" type="pr2_mechanism_model/SimpleTransmission">
    <actuator name="r_leg_aky_motor"/>
    <joint name="r_leg_aky"/>
    <mechanicalReduction>1</mechanicalReduction>
  </transmission>
  <transmission name="r_leg_hpz_trans" type="pr2_mechanism_model/SimpleTransmission">
    <actuator name="r_leg_hpz_motor"/>
    <joint name="r_leg_hpz"/>
    <mechanicalReduction>1</mechanicalReduction>
  </transmission>
  <link name="head">
    <inertial>
      <origin rpy="0 0 0" xyz="-0.075493 3.3383E-05 0.02774"/>
      <mass value="1.4199"/>
      <inertia ixx="0.0039688" ixy="-1.5797E-06" ixz="-0.00089293" iyy="0.0041178" iyz="-6.8415E-07" izz="0.0035243"/>
    </inertial>
    <visual>
      <origin rpy="0 0 0" xyz="0 0 0"/>
      <geometry>
        <mesh filename="package://multisense_sl/meshes/head.obj"/>
      </geometry>
      <material name="">
        <color rgba="0.9098 0.44314 0.031373 1"/>
      </material>
    </visual>
    <collision>
      <origin rpy="0 0 0" xyz="-0.0503 0 -0.00195"/>
      <geometry>
        <box size="0.1311 0.12 0.0591"/>
      </geometry>
    </collision>
  </link>
  <joint name="left_camera_optical_joint" type="fixed">
    <origin rpy="-0.00903666 -0.00460568 -0.00953286" xyz="0.037817599268810 -0.091862694985753 -0.008823379197658"/>
    <parent link="left_camera_optical_frame"/>
    <child link="motor"/>
  </joint>
  <link name="motor"/>
  <link name="spindle"/>
  <joint name="hokuyo_joint" type="continuous">
    <origin rpy="0 0 3.14159265" xyz="0 0 0"/>
    <parent link="motor"/>
    <child link="spindle"/>
    <axis xyz="0 0 1"/>
  </joint>
  <joint name="spindle_joint" type="fixed">
    <parent link="spindle"/>
    <child link="hokuyo_link"/>
  </joint>
  <link name="hokuyo_link">
    <inertial>
      <origin rpy="0 0 0" xyz="0.012428 0.0004084 -0.0041835"/>
      <mass value="0.057664"/>
      <inertia ixx="3.7174E-05" ixy="4.9927E-08" ixz="1.1015E-05" iyy="4.2412E-05" iyz="-9.8165E-09" izz="4.167E-05"/>
    </inertial>
    <visual>
      <origin rpy="-1.9179632679 -1.57079632679 0" xyz="-.032 -.08 0.013"/>
      <geometry>
        <mesh filename="package://multisense_sl/meshes/head_camera.obj"/>
      </geometry>
      <material name="">
        <color rgba="0.72941 0.35686 0.023529 1"/>
      </material>
    </visual>
    <collision>
      <geometry>
        <cylinder length="0.047" radius="0.024425"/>
      </geometry>
    </collision>
  </link>
  <joint name="head_hokuyo_fixed_joint" type="fixed">
    <axis xyz="0 1 0"/>
    <origin rpy="1.57935 -1.5462 3.13304" xyz="-0.000160855024446 0.024008705700733 -0.000009006827089"/>
    <parent link="hokuyo_link"/>
    <child link="head_hokuyo_frame"/>
  </joint>
  <link name="head_hokuyo_frame">
    <inertial>
      <mass value="0.01"/>
      <origin rpy="0 0 0" xyz="0 0 0"/>
      <inertia ixx="0.00001" ixy="0" ixz="0" iyy="0.00001" iyz="0" izz="0.00001"/>
    </inertial>
  </link>
  <gazebo reference="head_hokuyo_frame">
    <sensor name="head_hokuyo_sensor" type="ray">
      <pose>0 0 0 0 0 0</pose>
      <visualize>false</visualize>
      <update_rate>40</update_rate>
      <ray>
        <scan>
          <horizontal>
            <samples>720</samples>
            <resolution>1</resolution>
            <min_angle>-1.570796</min_angle>
            <max_angle>1.570796</max_angle>
          </horizontal>
        </scan>
        <range>
          <min>0.10</min>
          <max>30.0</max>
          <resolution>0.01</resolution>
        </range>
      </ray>
      <plugin filename="libgazebo_ros_laser.so" name="gazebo_ros_head_hokuyo_controller">
        <gaussianNoise>0.005</gaussianNoise>
        <alwaysOn>true</alwaysOn>
        <updateRate>40</updateRate>
        <topicName>/scan</topicName>
        <frameName>head_hokuyo_frame</frameName>
      </plugin>
    </sensor>
  </gazebo>
  <joint name="left_camera_frame_joint" type="fixed">
    <!-- optical frame collocated with tilting DOF -->
    <origin xyz="0.0 0.035 -0.002"/>
    <parent link="head"/>
    <child link="left_camera_frame"/>
  </joint>
  <link name="left_camera_frame">
    <inertial>
      <mass value="0.1"/>
      <origin xyz="0 0 0"/>
      <inertia ixx="0.001" ixy="0.0" ixz="0.0" iyy="0.001" iyz="0.0" izz="0.001"/>
    </inertial>
  </link>
  <joint name="left_camera_optical_frame_joint" type="fixed">
    <origin rpy="-1.57079632679 0.0 -1.57079632679" xyz="0 0 0"/>
    <parent link="left_camera_frame"/>
    <child link="left_camera_optical_frame"/>
  </joint>
  <link name="left_camera_optical_frame"/>
  <gazebo reference="left_camera_frame">
    <sensor name="left_camera_sensor" type="camera">
      <!-- update rate based on spec sheet for 2mp 15fps -->
      <update_rate>15.0</update_rate>
      <camera>
        <!-- hfov based on spec sheet, 80 degrees X 45 degrees -->
        <!-- for resolution of 2048 x 1088, we have non-unity aspect ratio -->
        <!-- but gazebo will violate the vertical fov for now to keep aspect ratio of 1 -->
        <horizontal_fov>1.3962634</horizontal_fov>
        <image>
          <width>2048</width>
          <height>1088</height>
          <format>R8G8B8</format>
        </image>
        <clip>
          <near>0.02</near>
          <far>100</far>
        </clip>
      </camera>
      <plugin filename="libgazebo_ros_camera.so" name="left_camera_controller">
        <alwaysOn>true</alwaysOn>
        <!-- update rate based on spec sheet for 2mp 15fps -->
        <updateRate>15.0</updateRate>
        <cameraName>multisense/left</cameraName>
        <imageTopicName>image_raw</imageTopicName>
        <cameraInfoTopicName>camera_info</cameraInfoTopicName>
        <frameName>left_camera_optical_frame</frameName>
        <hackBaseline>0.0</hackBaseline>
        <distortionK1>0.0</distortionK1>
        <distortionK2>0.0</distortionK2>
        <distortionK3>0.0</distortionK3>
        <distortionT1>0.0</distortionT1>
        <distortionT2>0.0</distortionT2>
      </plugin>
    </sensor>
  </gazebo>
  <joint name="right_camera_frame_joint" type="fixed">
    <origin xyz="0.0 -0.035 -0.002"/>
    <parent link="head"/>
    <child link="right_camera_frame"/>
  </joint>
  <link name="right_camera_frame">
    <inertial>
      <mass value="0.1"/>
      <origin xyz="0 0 0"/>
      <inertia ixx="0.001" ixy="0.0" ixz="0.0" iyy="0.001" iyz="0.0" izz="0.001"/>
    </inertial>
  </link>
  <joint name="right_camera_optical_frame_joint" type="fixed">
    <origin rpy="-1.5708 0.0 -1.5708" xyz="0 0 0"/>
    <parent link="right_camera_frame"/>
    <child link="right_camera_optical_frame"/>
  </joint>
  <link name="right_camera_optical_frame"/>
  <gazebo reference="right_camera_frame">
    <sensor name="right_camera_sensor" type="camera">
      <!-- update rate based on spec sheet for 2mp 15fps -->
      <update_rate>15.0</update_rate>
      <camera>
        <!-- hfov based on spec sheet, 80 degrees X 45 degrees -->
        <!-- for resolution of 2048 x 1088, we have non-unity aspect ratio -->
        <!-- but gazebo will violate the vertical fov for now to keep aspect ratio of 1 -->
        <horizontal_fov>1.3962634</horizontal_fov>
        <image>
          <width>2048</width>
          <height>1088</height>
          <format>R8G8B8</format>
        </image>
        <clip>
          <near>0.02</near>
          <far>100</far>
        </clip>
      </camera>
      <plugin filename="libgazebo_ros_camera.so" name="right_camera_controller">
        <alwaysOn>true</alwaysOn>
        <!-- update rate based on spec sheet for 2mp 15fps -->
        <updateRate>15.0</updateRate>
        <cameraName>multisense/right</cameraName>
        <imageTopicName>image_raw</imageTopicName>
        <cameraInfoTopicName>camera_info</cameraInfoTopicName>
        <frameName>left_camera_optical_frame</frameName>
        <hackBaseline>0.07</hackBaseline>
        <distortionK1>0.0</distortionK1>
        <distortionK2>0.0</distortionK2>
        <distortionK3>0.0</distortionK3>
        <distortionT1>0.0</distortionT1>
        <distortionT2>0.0</distortionT2>
      </plugin>
    </sensor>
  </gazebo>
  <joint name="center_top_led_frame_joint" type="fixed">
    <origin xyz="0.01125 0.0 0.0105"/>
    <parent link="head"/>
    <child link="center_top_led_frame"/>
  </joint>
  <link name="center_top_led_frame">
    <inertial>
      <mass value="0.1"/>
      <origin xyz="0 0 0"/>
      <inertia ixx="0.001" ixy="0.0" ixz="0.0" iyy="0.001" iyz="0.0" izz="0.001"/>
    </inertial>
  </link>
  <joint name="center_bottom_led_frame_joint" type="fixed">
    <origin xyz="0.01125 0.0 -0.0155"/>
    <parent link="head"/>
    <child link="center_bottom_led_frame"/>
  </joint>
  <link name="center_bottom_led_frame">
    <inertial>
      <mass value="0.1"/>
      <origin xyz="0 0 0"/>
      <inertia ixx="0.001" ixy="0.0" ixz="0.0" iyy="0.001" iyz="0.0" izz="0.001"/>
    </inertial>
  </link>
  <joint name="left_led_frame_joint" type="fixed">
    <origin rpy="0 -0.15 0.53" xyz="-0.01443 0.07452 0.050346"/>
    <parent link="head"/>
    <child link="left_led_frame"/>
  </joint>
  <link name="left_led_frame">
    <inertial>
      <mass value="0.1"/>
      <origin xyz="0 0 0"/>
      <inertia ixx="0.001" ixy="0.0" ixz="0.0" iyy="0.001" iyz="0.0" izz="0.001"/>
    </inertial>
  </link>
  <joint name="right_led_frame_joint" type="fixed">
    <origin rpy="0 -0.15 -0.53" xyz="-0.01443 -0.07452 0.050346"/>
    <parent link="head"/>
    <child link="right_led_frame"/>
  </joint>
  <link name="right_led_frame">
    <inertial>
      <mass value="0.1"/>
      <origin xyz="0 0 0"/>
      <inertia ixx="0.001" ixy="0.0" ixz="0.0" iyy="0.001" iyz="0.0" izz="0.001"/>
    </inertial>
  </link>
  <link name="accel"/>
  <joint name="accel_joint" type="fixed">
    <origin rpy="0 1.5707 0" xyz="-.0475 .0302 -.00275"/>
    <!-- parent_link was head_root, mfallon changed -->
    <parent link="head"/>
    <child link="accel"/>
  </joint>
  <link name="mag"/>
  <joint name="mag_joint" type="fixed">
    <origin rpy="0 1.5707 0" xyz="-.0475 .0302 -.00275"/>
    <!-- parent_link was head_root, mfallon changed -->
    <parent link="head"/>
    <child link="mag"/>
  </joint>
  <link name="gyro"/>
  <joint name="gyro_joint" type="fixed">
    <origin rpy="1.5707 3.14159 1.5707 " xyz="-.0476 .0388 -.00075"/>
    <!-- parent_link was head_root, mfallon changed -->
    <parent link="head"/>
    <child link="gyro"/>
  </joint>
  <!--  <xacro:include filename="../../common_components/multisense_sl/multisense_sl_sim.urdf" /> -->
  <link name="l_hand_force_torque">
    <inertial>
      <mass value="0.1"/>
      <origin xyz="0 0 0"/>
      <inertia ixx="0.00001" ixy="0" ixz="0" iyy="0.00001" iyz="0" izz="0.00001"/>
    </inertial>
    <visual>
      <origin rpy="0 0 0" xyz="0 0 0"/>
      <geometry>
        <box size="0.01 0.01 0.01"/>
      </geometry>
    </visual>
  </link>
  <joint name="l_hand_force_torque_joint" type="fixed">
    <origin rpy="0 0 0" xyz="0 0.1245 0.0112"/>
    <parent link="l_hand"/>
    <child link="l_hand_force_torque"/>
  </joint>
  <link name="r_hand_force_torque">
    <inertial>
      <mass value="0.1"/>
      <origin xyz="0 0 0"/>
      <inertia ixx="0.00001" ixy="0" ixz="0" iyy="0.00001" iyz="0" izz="0.00001"/>
    </inertial>
    <visual>
      <origin rpy="0 0 0" xyz="0 0 0"/>
      <geometry>
        <box size="0.01 0.01 0.01"/>
      </geometry>
    </visual>
  </link>
  <joint name="r_hand_force_torque_joint" type="fixed">
    <origin rpy="0 0 3.142" xyz="0 -0.1245 -0.0112"/>
    <parent link="r_hand"/>
    <child link="r_hand_force_torque"/>
  </joint>
  <joint name="left_robotiq_hand_joint" type="fixed">
    <origin rpy="0 -1.57079 0" xyz="0 0.06566 0.0"/>
    <parent link="l_hand_force_torque"/>
    <child link="left_palm"/>
  </joint>
  <link name="left_finger_1_link_0">
    <visual>
      <origin rpy="0 0 0" xyz="0.020 0 0"/>
      <geometry>
        <mesh filename="package://robotiq_hand_description/meshes/s-model_articulated/visual/link_0.obj"/>
      </geometry>
      <material name="green">
        <color rgba="0 1 0 1"/>
      </material>
    </visual>
    <collision>
      <origin rpy="0 3.1416 -1.57" xyz="-0.0455 0.0414 0.036"/>
      <geometry>
        <mesh filename="package://robotiq_hand_description/meshes/s-model_articulated/collision/link_0_chull.obj"/>
      </geometry>
      <material name="yellow">
        <color rgba="0 1 1 1"/>
      </material>
    </collision>
  </link>
  <link name="left_finger_1_link_1">
    <visual>
      <origin rpy="0 0 -0.52" xyz="0.050 -.028 0"/>
      <geometry>
        <mesh filename="package://robotiq_hand_description/meshes/s-model_articulated/visual/link_1.obj"/>
      </geometry>
      <material name="green"/>
    </visual>
    <collision>
      <origin rpy="0 0 -0.52" xyz="0.050 -.028 0"/>
      <geometry>
        <mesh filename="package://robotiq_hand_description/meshes/s-model_articulated/collision/link_1_chull.obj"/>
      </geometry>
      <material name="yellow"/>
    </collision>
  </link>
  <link name="left_finger_1_link_2">
    <!--
			NOTE: This link has an offset in the z-direction based on the models that were
			used to generate grap-it poses.  With the offset below the model appears visually
			correct, but it is suspect.
			-->
    <visual>
      <origin rpy="0 0 0" xyz="0.039 0 0.0075"/>
      <geometry>
        <mesh filename="package://robotiq_hand_description/meshes/s-model_articulated/visual/link_2.obj"/>
      </geometry>
      <material name="green"/>
    </visual>
    <collision>
      <origin rpy="0 0 0" xyz="0.039 0 0.0075"/>
      <geometry>
        <mesh filename="package://robotiq_hand_description/meshes/s-model_articulated/collision/link_2_chull.obj"/>
      </geometry>
      <material name="yellow"/>
    </collision>
  </link>
  <link name="left_finger_1_link_3">
    <visual>
      <origin rpy="0 0 0.52" xyz="0 0 0"/>
      <geometry>
        <mesh filename="package://robotiq_hand_description/meshes/s-model_articulated/visual/link_3.obj"/>
      </geometry>
      <material name="green"/>
    </visual>
    <collision>
      <origin rpy="0 0 0.52" xyz="0 0 0"/>
      <geometry>
        <mesh filename="package://robotiq_hand_description/meshes/s-model_articulated/collision/link_3_chull.obj"/>
      </geometry>
      <material name="yellow"/>
    </collision>
  </link>
  <joint name="left_finger_1_joint_1" type="revolute">
    <parent link="left_finger_1_link_0"/>
    <child link="left_finger_1_link_1"/>
    <axis xyz="0 0 1"/>
    <origin rpy="0 0 0" xyz="0.020 0 0"/>
    <limit effort="100" lower="0" upper="3.1416" velocity="100"/>
  </joint>
  <joint name="left_finger_1_joint_2" type="revolute">
    <parent link="left_finger_1_link_1"/>
    <child link="left_finger_1_link_2"/>
    <axis xyz="0 0 1"/>
    <origin rpy="0 0 -0.52" xyz="0.050 -.028 0"/>
    <limit effort="100" lower="0" upper="3.1416" velocity="100"/>
  </joint>
  <joint name="left_finger_1_joint_3" type="revolute">
    <parent link="left_finger_1_link_2"/>
    <child link="left_finger_1_link_3"/>
    <axis xyz="0 0 1"/>
    <origin rpy="0 0 0" xyz="0.039 0 0"/>
    <limit effort="100" lower="0" upper="3.1416" velocity="100"/>
  </joint>
  <link name="left_finger_2_link_0">
    <visual>
      <origin rpy="0 0 0" xyz="0.020 0 0"/>
      <geometry>
        <mesh filename="package://robotiq_hand_description/meshes/s-model_articulated/visual/link_0.obj"/>
      </geometry>
      <material name="green">
        <color rgba="0 1 0 1"/>
      </material>
    </visual>
    <collision>
      <origin rpy="0 3.1416 -1.57" xyz="-0.0455 0.0414 0.036"/>
      <geometry>
        <mesh filename="package://robotiq_hand_description/meshes/s-model_articulated/collision/link_0_chull.obj"/>
      </geometry>
      <material name="yellow">
        <color rgba="0 1 1 1"/>
      </material>
    </collision>
  </link>
  <link name="left_finger_2_link_1">
    <visual>
      <origin rpy="0 0 -0.52" xyz="0.050 -.028 0"/>
      <geometry>
        <mesh filename="package://robotiq_hand_description/meshes/s-model_articulated/visual/link_1.obj"/>
      </geometry>
      <material name="green"/>
    </visual>
    <collision>
      <origin rpy="0 0 -0.52" xyz="0.050 -.028 0"/>
      <geometry>
        <mesh filename="package://robotiq_hand_description/meshes/s-model_articulated/collision/link_1_chull.obj"/>
      </geometry>
      <material name="yellow"/>
    </collision>
  </link>
  <link name="left_finger_2_link_2">
    <!--
			NOTE: This link has an offset in the z-direction based on the models that were
			used to generate grap-it poses.  With the offset below the model appears visually
			correct, but it is suspect.
			-->
    <visual>
      <origin rpy="0 0 0" xyz="0.039 0 0.0075"/>
      <geometry>
        <mesh filename="package://robotiq_hand_description/meshes/s-model_articulated/visual/link_2.obj"/>
      </geometry>
      <material name="green"/>
    </visual>
    <collision>
      <origin rpy="0 0 0" xyz="0.039 0 0.0075"/>
      <geometry>
        <mesh filename="package://robotiq_hand_description/meshes/s-model_articulated/collision/link_2_chull.obj"/>
      </geometry>
      <material name="yellow"/>
    </collision>
  </link>
  <link name="left_finger_2_link_3">
    <visual>
      <origin rpy="0 0 0.52" xyz="0 0 0"/>
      <geometry>
        <mesh filename="package://robotiq_hand_description/meshes/s-model_articulated/visual/link_3.obj"/>
      </geometry>
      <material name="green"/>
    </visual>
    <collision>
      <origin rpy="0 0 0.52" xyz="0 0 0"/>
      <geometry>
        <mesh filename="package://robotiq_hand_description/meshes/s-model_articulated/collision/link_3_chull.obj"/>
      </geometry>
      <material name="yellow"/>
    </collision>
  </link>
  <joint name="left_finger_2_joint_1" type="revolute">
    <parent link="left_finger_2_link_0"/>
    <child link="left_finger_2_link_1"/>
    <axis xyz="0 0 1"/>
    <origin rpy="0 0 0" xyz="0.020 0 0"/>
    <limit effort="100" lower="0" upper="3.1416" velocity="100"/>
  </joint>
  <joint name="left_finger_2_joint_2" type="revolute">
    <parent link="left_finger_2_link_1"/>
    <child link="left_finger_2_link_2"/>
    <axis xyz="0 0 1"/>
    <origin rpy="0 0 -0.52" xyz="0.050 -.028 0"/>
    <limit effort="100" lower="0" upper="3.1416" velocity="100"/>
  </joint>
  <joint name="left_finger_2_joint_3" type="revolute">
    <parent link="left_finger_2_link_2"/>
    <child link="left_finger_2_link_3"/>
    <axis xyz="0 0 1"/>
    <origin rpy="0 0 0" xyz="0.039 0 0"/>
    <limit effort="100" lower="0" upper="3.1416" velocity="100"/>
  </joint>
  <link name="left_finger_middle_link_0">
    <visual>
      <origin rpy="0 0 0" xyz="0.020 0 0"/>
      <geometry>
        <mesh filename="package://robotiq_hand_description/meshes/s-model_articulated/visual/link_0.obj"/>
      </geometry>
      <material name="green">
        <color rgba="0 1 0 1"/>
      </material>
    </visual>
    <collision>
      <origin rpy="0 3.1416 -1.57" xyz="-0.0455 0.0414 0.036"/>
      <geometry>
        <mesh filename="package://robotiq_hand_description/meshes/s-model_articulated/collision/link_0_chull.obj"/>
      </geometry>
      <material name="yellow">
        <color rgba="0 1 1 1"/>
      </material>
    </collision>
  </link>
  <link name="left_finger_middle_link_1">
    <visual>
      <origin rpy="0 0 -0.52" xyz="0.050 -.028 0"/>
      <geometry>
        <mesh filename="package://robotiq_hand_description/meshes/s-model_articulated/visual/link_1.obj"/>
      </geometry>
      <material name="green"/>
    </visual>
    <collision>
      <origin rpy="0 0 -0.52" xyz="0.050 -.028 0"/>
      <geometry>
        <mesh filename="package://robotiq_hand_description/meshes/s-model_articulated/collision/link_1_chull.obj"/>
      </geometry>
      <material name="yellow"/>
    </collision>
  </link>
  <link name="left_finger_middle_link_2">
    <!--
			NOTE: This link has an offset in the z-direction based on the models that were
			used to generate grap-it poses.  With the offset below the model appears visually
			correct, but it is suspect.
			-->
    <visual>
      <origin rpy="0 0 0" xyz="0.039 0 0.0075"/>
      <geometry>
        <mesh filename="package://robotiq_hand_description/meshes/s-model_articulated/visual/link_2.obj"/>
      </geometry>
      <material name="green"/>
    </visual>
    <collision>
      <origin rpy="0 0 0" xyz="0.039 0 0.0075"/>
      <geometry>
        <mesh filename="package://robotiq_hand_description/meshes/s-model_articulated/collision/link_2_chull.obj"/>
      </geometry>
      <material name="yellow"/>
    </collision>
  </link>
  <link name="left_finger_middle_link_3">
    <visual>
      <origin rpy="0 0 0.52" xyz="0 0 0"/>
      <geometry>
        <mesh filename="package://robotiq_hand_description/meshes/s-model_articulated/visual/link_3.obj"/>
      </geometry>
      <material name="green"/>
    </visual>
    <collision>
      <origin rpy="0 0 0.52" xyz="0 0 0"/>
      <geometry>
        <mesh filename="package://robotiq_hand_description/meshes/s-model_articulated/collision/link_3_chull.obj"/>
      </geometry>
      <material name="yellow"/>
    </collision>
  </link>
  <joint name="left_finger_middle_joint_1" type="revolute">
    <parent link="left_finger_middle_link_0"/>
    <child link="left_finger_middle_link_1"/>
    <axis xyz="0 0 1"/>
    <origin rpy="0 0 0" xyz="0.020 0 0"/>
    <limit effort="100" lower="0" upper="3.1416" velocity="100"/>
  </joint>
  <joint name="left_finger_middle_joint_2" type="revolute">
    <parent link="left_finger_middle_link_1"/>
    <child link="left_finger_middle_link_2"/>
    <axis xyz="0 0 1"/>
    <origin rpy="0 0 -0.52" xyz="0.050 -.028 0"/>
    <limit effort="100" lower="0" upper="3.1416" velocity="100"/>
  </joint>
  <joint name="left_finger_middle_joint_3" type="revolute">
    <parent link="left_finger_middle_link_2"/>
    <child link="left_finger_middle_link_3"/>
    <axis xyz="0 0 1"/>
    <origin rpy="0 0 0" xyz="0.039 0 0"/>
    <limit effort="100" lower="0" upper="3.1416" velocity="100"/>
  </joint>
  <link name="left_palm">
    <visual>
      <geometry>
        <mesh filename="package://robotiq_hand_description/meshes/s-model_articulated/visual/palm.obj"/>
      </geometry>
      <material name="green">
        <color rgba="0 1 0 1"/>
      </material>
    </visual>
    <collision>
      <geometry>
        <mesh filename="package://robotiq_hand_description/meshes/s-model_articulated/collision/palm_chull.obj"/>
      </geometry>
      <material name="yellow">
        <color rgba="0 1 1 1"/>
      </material>
    </collision>
  </link>
  <joint name="left_palm_finger_1_joint" type="revolute">
    <parent link="left_palm"/>
    <child link="left_finger_1_link_0"/>
    <axis xyz="0 1 0"/>
    <origin rpy="0 3.1416 -1.57" xyz="-0.0455 0.0214 0.036"/>
    <limit effort="100" lower="-0.16" upper="0.25" velocity="100"/>
  </joint>
  <joint name="left_palm_finger_2_joint" type="revolute">
    <parent link="left_palm"/>
    <child link="left_finger_2_link_0"/>
    <axis xyz="0 1 0"/>
    <origin rpy="0 3.1416 -1.57" xyz="-0.0455 0.0214 -0.036"/>
    <limit effort="100" lower="-0.25" upper="0.16" velocity="100"/>
  </joint>
  <joint name="left_palm_finger_middle_joint" type="fixed">
    <parent link="left_palm"/>
    <child link="left_finger_middle_link_0"/>
    <axis xyz="0 0 1"/>
    <origin rpy="0 0 1.57" xyz="0.0455 0.0214 0"/>
  </joint>
  <joint name="right_robotiq_hand_joint" type="fixed">
    <origin rpy="0 -1.57079 0" xyz="0 0.06566 0.0"/>
    <parent link="r_hand_force_torque"/>
    <child link="right_palm"/>
  </joint>
  <link name="right_finger_1_link_0">
    <visual>
      <origin rpy="0 0 0" xyz="0.020 0 0"/>
      <geometry>
        <mesh filename="package://robotiq_hand_description/meshes/s-model_articulated/visual/link_0.obj"/>
      </geometry>
      <material name="green">
        <color rgba="0 1 0 1"/>
      </material>
    </visual>
    <collision>
      <origin rpy="0 3.1416 -1.57" xyz="-0.0455 0.0414 0.036"/>
      <geometry>
        <mesh filename="package://robotiq_hand_description/meshes/s-model_articulated/collision/link_0_chull.obj"/>
      </geometry>
      <material name="yellow">
        <color rgba="0 1 1 1"/>
      </material>
    </collision>
  </link>
  <link name="right_finger_1_link_1">
    <visual>
      <origin rpy="0 0 -0.52" xyz="0.050 -.028 0"/>
      <geometry>
        <mesh filename="package://robotiq_hand_description/meshes/s-model_articulated/visual/link_1.obj"/>
      </geometry>
      <material name="green"/>
    </visual>
    <collision>
      <origin rpy="0 0 -0.52" xyz="0.050 -.028 0"/>
      <geometry>
        <mesh filename="package://robotiq_hand_description/meshes/s-model_articulated/collision/link_1_chull.obj"/>
      </geometry>
      <material name="yellow"/>
    </collision>
  </link>
  <link name="right_finger_1_link_2">
    <!--
			NOTE: This link has an offset in the z-direction based on the models that were
			used to generate grap-it poses.  With the offset below the model appears visually
			correct, but it is suspect.
			-->
    <visual>
      <origin rpy="0 0 0" xyz="0.039 0 0.0075"/>
      <geometry>
        <mesh filename="package://robotiq_hand_description/meshes/s-model_articulated/visual/link_2.obj"/>
      </geometry>
      <material name="green"/>
    </visual>
    <collision>
      <origin rpy="0 0 0" xyz="0.039 0 0.0075"/>
      <geometry>
        <mesh filename="package://robotiq_hand_description/meshes/s-model_articulated/collision/link_2_chull.obj"/>
      </geometry>
      <material name="yellow"/>
    </collision>
  </link>
  <link name="right_finger_1_link_3">
    <visual>
      <origin rpy="0 0 0.52" xyz="0 0 0"/>
      <geometry>
        <mesh filename="package://robotiq_hand_description/meshes/s-model_articulated/visual/link_3.obj"/>
      </geometry>
      <material name="green"/>
    </visual>
    <collision>
      <origin rpy="0 0 0.52" xyz="0 0 0"/>
      <geometry>
        <mesh filename="package://robotiq_hand_description/meshes/s-model_articulated/collision/link_3_chull.obj"/>
      </geometry>
      <material name="yellow"/>
    </collision>
  </link>
  <joint name="right_finger_1_joint_1" type="revolute">
    <parent link="right_finger_1_link_0"/>
    <child link="right_finger_1_link_1"/>
    <axis xyz="0 0 1"/>
    <origin rpy="0 0 0" xyz="0.020 0 0"/>
    <limit effort="100" lower="0" upper="3.1416" velocity="100"/>
  </joint>
  <joint name="right_finger_1_joint_2" type="revolute">
    <parent link="right_finger_1_link_1"/>
    <child link="right_finger_1_link_2"/>
    <axis xyz="0 0 1"/>
    <origin rpy="0 0 -0.52" xyz="0.050 -.028 0"/>
    <limit effort="100" lower="0" upper="3.1416" velocity="100"/>
  </joint>
  <joint name="right_finger_1_joint_3" type="revolute">
    <parent link="right_finger_1_link_2"/>
    <child link="right_finger_1_link_3"/>
    <axis xyz="0 0 1"/>
    <origin rpy="0 0 0" xyz="0.039 0 0"/>
    <limit effort="100" lower="0" upper="3.1416" velocity="100"/>
  </joint>
  <link name="right_finger_2_link_0">
    <visual>
      <origin rpy="0 0 0" xyz="0.020 0 0"/>
      <geometry>
        <mesh filename="package://robotiq_hand_description/meshes/s-model_articulated/visual/link_0.obj"/>
      </geometry>
      <material name="green">
        <color rgba="0 1 0 1"/>
      </material>
    </visual>
    <collision>
      <origin rpy="0 3.1416 -1.57" xyz="-0.0455 0.0414 0.036"/>
      <geometry>
        <mesh filename="package://robotiq_hand_description/meshes/s-model_articulated/collision/link_0_chull.obj"/>
      </geometry>
      <material name="yellow">
        <color rgba="0 1 1 1"/>
      </material>
    </collision>
  </link>
  <link name="right_finger_2_link_1">
    <visual>
      <origin rpy="0 0 -0.52" xyz="0.050 -.028 0"/>
      <geometry>
        <mesh filename="package://robotiq_hand_description/meshes/s-model_articulated/visual/link_1.obj"/>
      </geometry>
      <material name="green"/>
    </visual>
    <collision>
      <origin rpy="0 0 -0.52" xyz="0.050 -.028 0"/>
      <geometry>
        <mesh filename="package://robotiq_hand_description/meshes/s-model_articulated/collision/link_1_chull.obj"/>
      </geometry>
      <material name="yellow"/>
    </collision>
  </link>
  <link name="right_finger_2_link_2">
    <!--
			NOTE: This link has an offset in the z-direction based on the models that were
			used to generate grap-it poses.  With the offset below the model appears visually
			correct, but it is suspect.
			-->
    <visual>
      <origin rpy="0 0 0" xyz="0.039 0 0.0075"/>
      <geometry>
        <mesh filename="package://robotiq_hand_description/meshes/s-model_articulated/visual/link_2.obj"/>
      </geometry>
      <material name="green"/>
    </visual>
    <collision>
      <origin rpy="0 0 0" xyz="0.039 0 0.0075"/>
      <geometry>
        <mesh filename="package://robotiq_hand_description/meshes/s-model_articulated/collision/link_2_chull.obj"/>
      </geometry>
      <material name="yellow"/>
    </collision>
  </link>
  <link name="right_finger_2_link_3">
    <visual>
      <origin rpy="0 0 0.52" xyz="0 0 0"/>
      <geometry>
        <mesh filename="package://robotiq_hand_description/meshes/s-model_articulated/visual/link_3.obj"/>
      </geometry>
      <material name="green"/>
    </visual>
    <collision>
      <origin rpy="0 0 0.52" xyz="0 0 0"/>
      <geometry>
        <mesh filename="package://robotiq_hand_description/meshes/s-model_articulated/collision/link_3_chull.obj"/>
      </geometry>
      <material name="yellow"/>
    </collision>
  </link>
  <joint name="right_finger_2_joint_1" type="revolute">
    <parent link="right_finger_2_link_0"/>
    <child link="right_finger_2_link_1"/>
    <axis xyz="0 0 1"/>
    <origin rpy="0 0 0" xyz="0.020 0 0"/>
    <limit effort="100" lower="0" upper="3.1416" velocity="100"/>
  </joint>
  <joint name="right_finger_2_joint_2" type="revolute">
    <parent link="right_finger_2_link_1"/>
    <child link="right_finger_2_link_2"/>
    <axis xyz="0 0 1"/>
    <origin rpy="0 0 -0.52" xyz="0.050 -.028 0"/>
    <limit effort="100" lower="0" upper="3.1416" velocity="100"/>
  </joint>
  <joint name="right_finger_2_joint_3" type="revolute">
    <parent link="right_finger_2_link_2"/>
    <child link="right_finger_2_link_3"/>
    <axis xyz="0 0 1"/>
    <origin rpy="0 0 0" xyz="0.039 0 0"/>
    <limit effort="100" lower="0" upper="3.1416" velocity="100"/>
  </joint>
  <link name="right_finger_middle_link_0">
    <visual>
      <origin rpy="0 0 0" xyz="0.020 0 0"/>
      <geometry>
        <mesh filename="package://robotiq_hand_description/meshes/s-model_articulated/visual/link_0.obj"/>
      </geometry>
      <material name="green">
        <color rgba="0 1 0 1"/>
      </material>
    </visual>
    <collision>
      <origin rpy="0 3.1416 -1.57" xyz="-0.0455 0.0414 0.036"/>
      <geometry>
        <mesh filename="package://robotiq_hand_description/meshes/s-model_articulated/collision/link_0_chull.obj"/>
      </geometry>
      <material name="yellow">
        <color rgba="0 1 1 1"/>
      </material>
    </collision>
  </link>
  <link name="right_finger_middle_link_1">
    <visual>
      <origin rpy="0 0 -0.52" xyz="0.050 -.028 0"/>
      <geometry>
        <mesh filename="package://robotiq_hand_description/meshes/s-model_articulated/visual/link_1.obj"/>
      </geometry>
      <material name="green"/>
    </visual>
    <collision>
      <origin rpy="0 0 -0.52" xyz="0.050 -.028 0"/>
      <geometry>
        <mesh filename="package://robotiq_hand_description/meshes/s-model_articulated/collision/link_1_chull.obj"/>
      </geometry>
      <material name="yellow"/>
    </collision>
  </link>
  <link name="right_finger_middle_link_2">
    <!--
			NOTE: This link has an offset in the z-direction based on the models that were
			used to generate grap-it poses.  With the offset below the model appears visually
			correct, but it is suspect.
			-->
    <visual>
      <origin rpy="0 0 0" xyz="0.039 0 0.0075"/>
      <geometry>
        <mesh filename="package://robotiq_hand_description/meshes/s-model_articulated/visual/link_2.obj"/>
      </geometry>
      <material name="green"/>
    </visual>
    <collision>
      <origin rpy="0 0 0" xyz="0.039 0 0.0075"/>
      <geometry>
        <mesh filename="package://robotiq_hand_description/meshes/s-model_articulated/collision/link_2_chull.obj"/>
      </geometry>
      <material name="yellow"/>
    </collision>
  </link>
  <link name="right_finger_middle_link_3">
    <visual>
      <origin rpy="0 0 0.52" xyz="0 0 0"/>
      <geometry>
        <mesh filename="package://robotiq_hand_description/meshes/s-model_articulated/visual/link_3.obj"/>
      </geometry>
      <material name="green"/>
    </visual>
    <collision>
      <origin rpy="0 0 0.52" xyz="0 0 0"/>
      <geometry>
        <mesh filename="package://robotiq_hand_description/meshes/s-model_articulated/collision/link_3_chull.obj"/>
      </geometry>
      <material name="yellow"/>
    </collision>
  </link>
  <joint name="right_finger_middle_joint_1" type="revolute">
    <parent link="right_finger_middle_link_0"/>
    <child link="right_finger_middle_link_1"/>
    <axis xyz="0 0 1"/>
    <origin rpy="0 0 0" xyz="0.020 0 0"/>
    <limit effort="100" lower="0" upper="3.1416" velocity="100"/>
  </joint>
  <joint name="right_finger_middle_joint_2" type="revolute">
    <parent link="right_finger_middle_link_1"/>
    <child link="right_finger_middle_link_2"/>
    <axis xyz="0 0 1"/>
    <origin rpy="0 0 -0.52" xyz="0.050 -.028 0"/>
    <limit effort="100" lower="0" upper="3.1416" velocity="100"/>
  </joint>
  <joint name="right_finger_middle_joint_3" type="revolute">
    <parent link="right_finger_middle_link_2"/>
    <child link="right_finger_middle_link_3"/>
    <axis xyz="0 0 1"/>
    <origin rpy="0 0 0" xyz="0.039 0 0"/>
    <limit effort="100" lower="0" upper="3.1416" velocity="100"/>
  </joint>
  <link name="right_palm">
    <visual>
      <geometry>
        <mesh filename="package://robotiq_hand_description/meshes/s-model_articulated/visual/palm.obj"/>
      </geometry>
      <material name="green">
        <color rgba="0 1 0 1"/>
      </material>
    </visual>
    <collision>
      <geometry>
        <mesh filename="package://robotiq_hand_description/meshes/s-model_articulated/collision/palm_chull.obj"/>
      </geometry>
      <material name="yellow">
        <color rgba="0 1 1 1"/>
      </material>
    </collision>
  </link>
  <joint name="right_palm_finger_1_joint" type="revolute">
    <parent link="right_palm"/>
    <child link="right_finger_1_link_0"/>
    <axis xyz="0 1 0"/>
    <origin rpy="0 3.1416 -1.57" xyz="-0.0455 0.0214 0.036"/>
    <limit effort="100" lower="-0.16" upper="0.25" velocity="100"/>
  </joint>
  <joint name="right_palm_finger_2_joint" type="revolute">
    <parent link="right_palm"/>
    <child link="right_finger_2_link_0"/>
    <axis xyz="0 1 0"/>
    <origin rpy="0 3.1416 -1.57" xyz="-0.0455 0.0214 -0.036"/>
    <limit effort="100" lower="-0.25" upper="0.16" velocity="100"/>
  </joint>
  <joint name="right_palm_finger_middle_joint" type="fixed">
    <parent link="right_palm"/>
    <child link="right_finger_middle_link_0"/>
    <axis xyz="0 0 1"/>
    <origin rpy="0 0 1.57" xyz="0.0455 0.0214 0"/>
  </joint>
  <joint name="l_hand_face_joint" type="fixed">
    <origin rpy="0.0 0.0 0.0" xyz="0 0.12 0"/>
    <parent link="l_hand_force_torque"/>
    <child link="l_hand_face"/>
  </joint>
  <link name="l_hand_face"/>
  <joint name="l_hand_gripper_joint" type="fixed">
    <origin rpy="0.0 0.0 0.0" xyz="0 0.18 0"/>
    <parent link="l_hand_force_torque"/>
    <child link="l_hand_gripper"/>
  </joint>
  <link name="l_hand_gripper"/>
  <link name="l_hand_camera_link"/>
  <joint name="l_hand_camera_joint" type="fixed">
    <parent link="l_hand_force_torque"/>
    <child link="l_hand_camera_link"/>
    <!-- new camera has no inward angle, placeholder is still here in case it is later tilted-->
    <origin rpy=" -1.57079 0  1.5708" xyz="-0.09892  0.01431 0.0"/>
  </joint>
  <joint name="l_hand_camera_optical_frame_joint" type="fixed">
    <origin rpy="-1.57079 0.0 -1.57079" xyz="0 0 0"/>
    <parent link="l_hand_camera_link"/>
    <child link="l_hand_camera_optical_frame"/>
  </joint>
  <link name="l_hand_camera_optical_frame"/>
  <gazebo reference="l_hand_camera_link">
    <sensor name="l_hand_camera_sensor" type="camera">
      <update_rate>10.0</update_rate>
      <camera name="l_hand_camera">
        <pose>0 0 0 0 0 0</pose>
        <!-- m.antone estimate of 2.8mm tamron lense fov -->
        <horizontal_fov>1.7281</horizontal_fov>
        <image>
          <width>1280</width>
          <height>1024</height>
          <format>R8G8B8</format>
        </image>
        <clip>
          <near>0.02</near>
          <far>100</far>
        </clip>
        <noise>
          <type>gaussian</type>
          <!-- Noise is sampled independently per pixel on each frame.
               That pixel's noise value is added to each of its color
               channels, which at that point lie in the range [0,1].
               The stddev value of 0.007 is based on experimental data 
               from a camera in a Sandia hand pointed at a static scene
               in a couple of different lighting conditions.  -->
          <mean>0.0</mean>
          <stddev>0.007</stddev>
        </noise>
      </camera>
      <plugin filename="libgazebo_ros_camera.so" name="l_hand_camera_controller">
        <alwaysOn>true</alwaysOn>
        <updateRate>0.0</updateRate>
        <cameraName>robotiq_hands/l_hand_camera</cameraName>
        <imageTopicName>image_raw</imageTopicName>
        <cameraInfoTopicName>camera_info</cameraInfoTopicName>
        <frameName>l_hand_camera_optical_frame</frameName>
        <hackBaseline>0.07</hackBaseline>
        <distortionK1>0.0</distortionK1>
        <distortionK2>0.0</distortionK2>
        <distortionK3>0.0</distortionK3>
        <distortionT1>0.0</distortionT1>
        <distortionT2>0.0</distortionT2>
      </plugin>
    </sensor>
  </gazebo>
  <joint name="r_hand_face_joint" type="fixed">
    <origin rpy="0.0 0.0 0.0" xyz="0 0.12 0"/>
    <parent link="r_hand_force_torque"/>
    <child link="r_hand_face"/>
  </joint>
  <link name="r_hand_face"/>
  <joint name="r_hand_gripper_joint" type="fixed">
    <origin rpy="0.0 0.0 0.0" xyz="0 0.18 0"/>
    <parent link="r_hand_force_torque"/>
    <child link="r_hand_gripper"/>
  </joint>
  <link name="r_hand_gripper"/>
  <link name="r_hand_camera_link"/>
  <joint name="r_hand_camera_joint" type="fixed">
    <parent link="r_hand_force_torque"/>
    <child link="r_hand_camera_link"/>
    <!-- new camera has no inward angle, placeholder is still here in case it is later tilted-->
    <origin rpy=" 1.57079 0  1.5708" xyz="0.09892  0.01431 0.0"/>
  </joint>
  <joint name="r_hand_camera_optical_frame_joint" type="fixed">
    <origin rpy="-1.57079 0.0 -1.57079" xyz="0 0 0"/>
    <parent link="r_hand_camera_link"/>
    <child link="r_hand_camera_optical_frame"/>
  </joint>
  <link name="r_hand_camera_optical_frame"/>
  <gazebo reference="r_hand_camera_link">
    <sensor name="r_hand_camera_sensor" type="camera">
      <update_rate>10.0</update_rate>
      <camera name="r_hand_camera">
        <pose>0 0 0 0 0 0</pose>
        <!-- m.antone estimate of 2.8mm tamron lense fov -->
        <horizontal_fov>1.7281</horizontal_fov>
        <image>
          <width>1280</width>
          <height>1024</height>
          <format>R8G8B8</format>
        </image>
        <clip>
          <near>0.02</near>
          <far>100</far>
        </clip>
        <noise>
          <type>gaussian</type>
          <!-- Noise is sampled independently per pixel on each frame.
               That pixel's noise value is added to each of its color
               channels, which at that point lie in the range [0,1].
               The stddev value of 0.007 is based on experimental data 
               from a camera in a Sandia hand pointed at a static scene
               in a couple of different lighting conditions.  -->
          <mean>0.0</mean>
          <stddev>0.007</stddev>
        </noise>
      </camera>
      <plugin filename="libgazebo_ros_camera.so" name="r_hand_camera_controller">
        <alwaysOn>true</alwaysOn>
        <updateRate>0.0</updateRate>
        <cameraName>robotiq_hands/r_hand_camera</cameraName>
        <imageTopicName>image_raw</imageTopicName>
        <cameraInfoTopicName>camera_info</cameraInfoTopicName>
        <frameName>r_hand_camera_optical_frame</frameName>
        <hackBaseline>0.07</hackBaseline>
        <distortionK1>0.0</distortionK1>
        <distortionK2>0.0</distortionK2>
        <distortionK3>0.0</distortionK3>
        <distortionT1>0.0</distortionT1>
        <distortionT2>0.0</distortionT2>
      </plugin>
    </sensor>
  </gazebo>
</robot>
